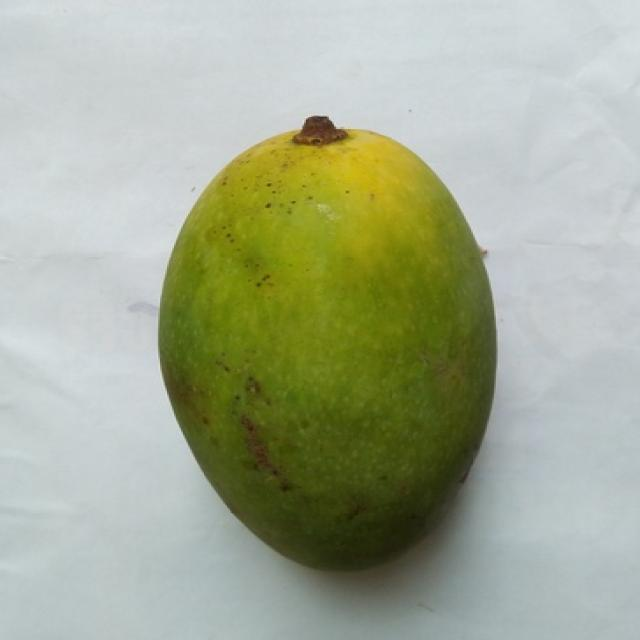Mango: (158, 117, 494, 568)
